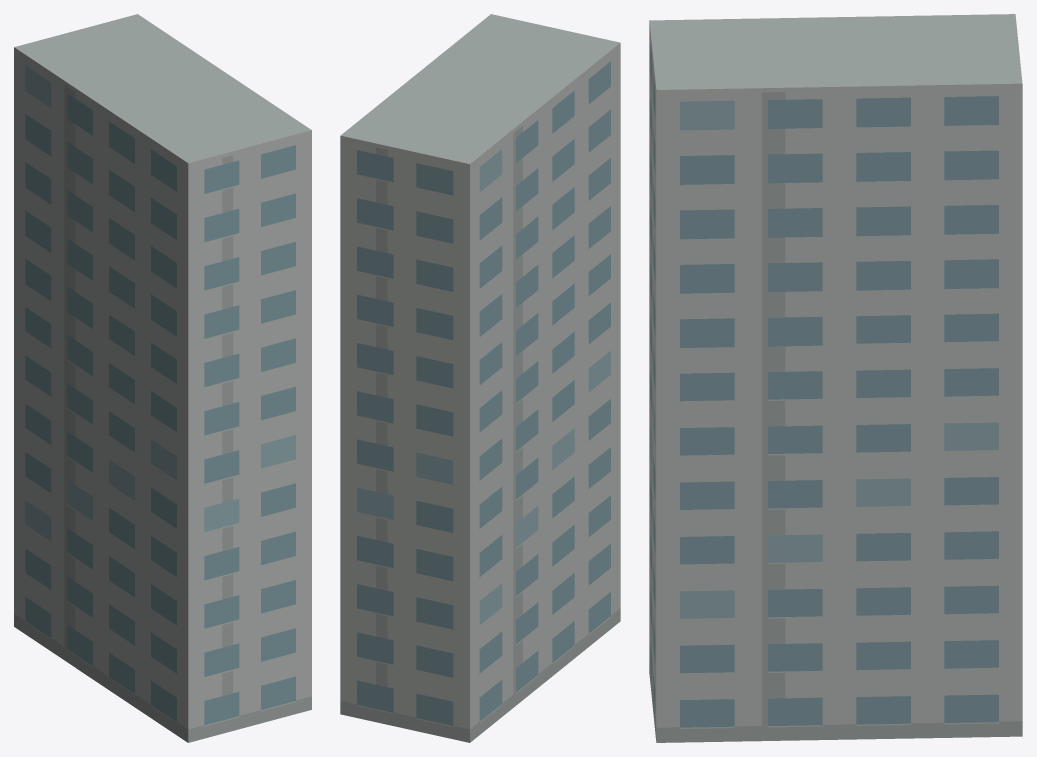
The model's file is residential-2072e58d-ba18-40a9-93f2-f7d3f747e9e8.glb.
3 views of the same model, side by side, from view 1: azimuth 30°, elevation 25°; view 2: azimuth 150°, elevation 25°; view 3: azimuth 270°, elevation 25° (orthographic). The views are drawn at different scales.
Visible parts, largest first — view 1: residential-2072e58d-ba18-40a9-93f2-f7d3f747e9e8.tmp; view 2: residential-2072e58d-ba18-40a9-93f2-f7d3f747e9e8.tmp; view 3: residential-2072e58d-ba18-40a9-93f2-f7d3f747e9e8.tmp.
Part boxes in pixels (bbox=[...]): residential-2072e58d-ba18-40a9-93f2-f7d3f747e9e8.tmp: bbox=[14, 14, 311, 742]; residential-2072e58d-ba18-40a9-93f2-f7d3f747e9e8.tmp: bbox=[340, 14, 620, 742]; residential-2072e58d-ba18-40a9-93f2-f7d3f747e9e8.tmp: bbox=[649, 14, 1022, 742].
Size of the model in its own units: 9.25 by 37 by 19.17.
